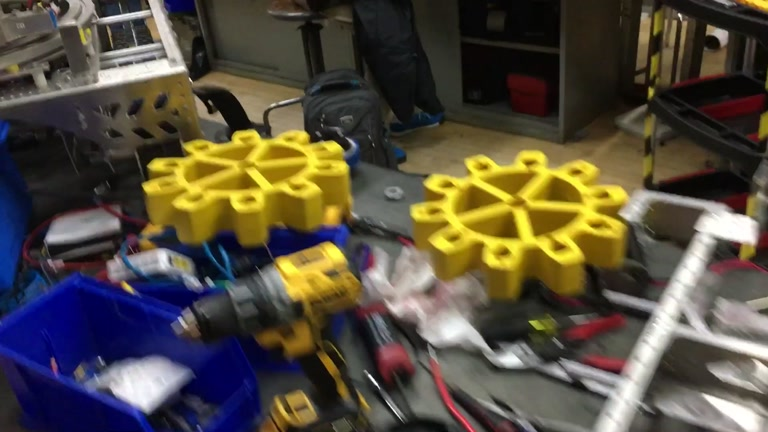gear: (407, 147, 628, 301), (141, 127, 349, 249)
